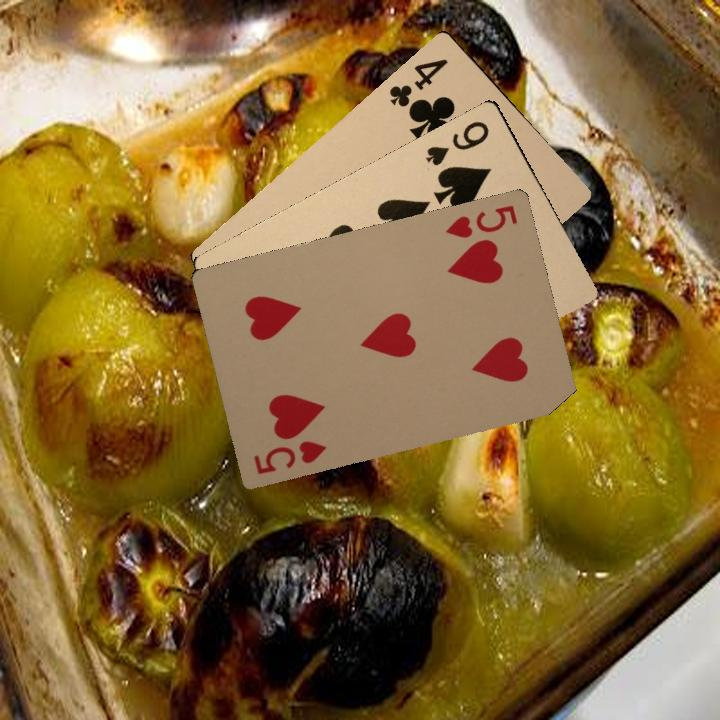4c: (385, 54, 450, 115)
5h: (249, 436, 329, 477), (441, 201, 520, 241)
9s: (422, 116, 492, 169)
